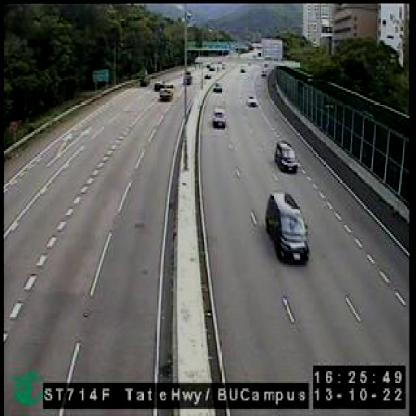Car: (266, 192, 310, 265), (275, 140, 299, 172), (212, 107, 225, 129), (247, 92, 257, 107), (211, 80, 222, 90)
Truck: (159, 81, 176, 99)
